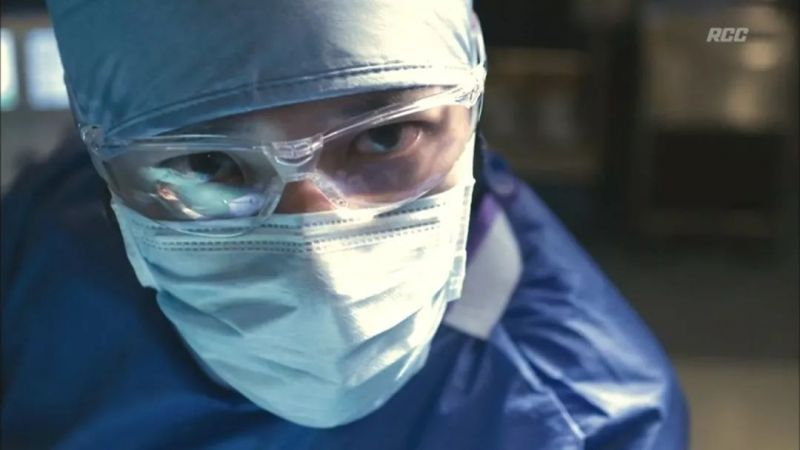mask: (111, 202, 470, 431)
